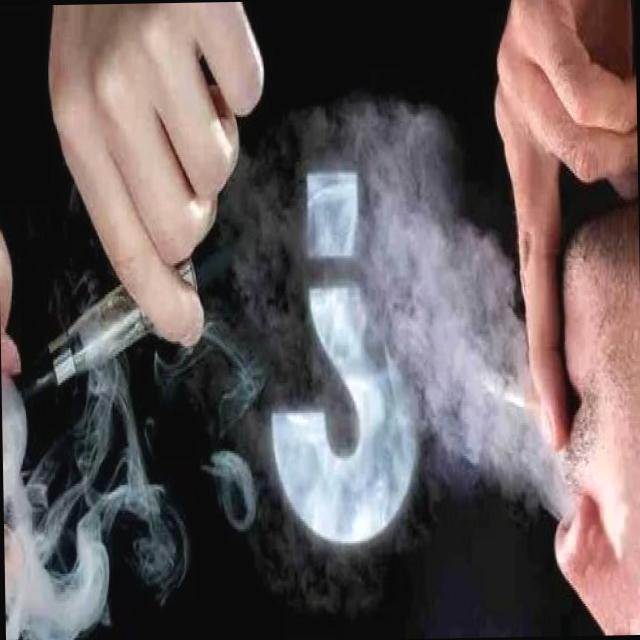smoke: (13, 223, 227, 422), (472, 359, 546, 418)
